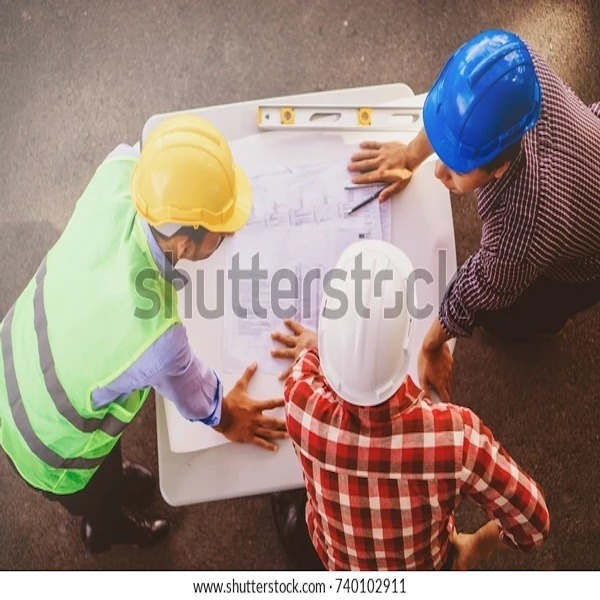helmet: (318, 238, 420, 405), (428, 27, 539, 170), (136, 114, 257, 229)
vest: (31, 157, 122, 460)
